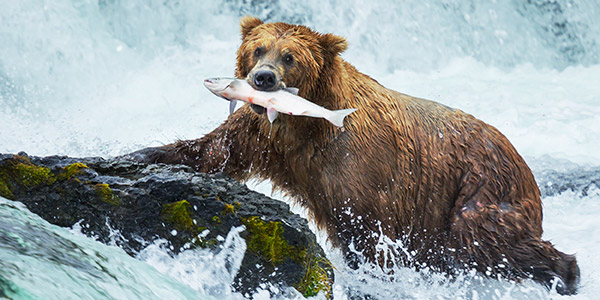bear: (234, 13, 352, 92)
